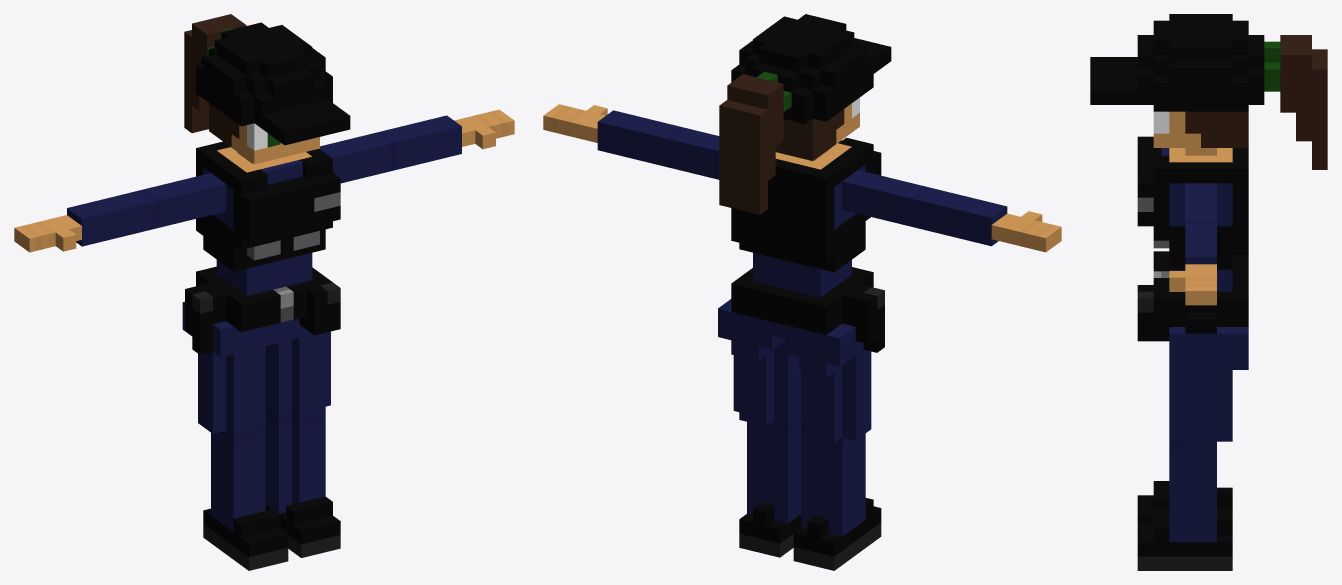
File: Character-5.obj
3 renders of one model, left to right at view 1: azimuth 30°, elevation 25°; view 2: azimuth 150°, elevation 25°; view 3: azimuth 270°, elevation 25°, orthographic. The views are drawn at different scales.
Visible parts, largest first — view 1: Character-5; view 2: Character-5; view 3: Character-5.
Boxes of the visible parts, <box> form: Character-5: <box>14,14,514,570</box>; Character-5: <box>543,14,1061,570</box>; Character-5: <box>1090,14,1327,570</box>.
Bounding box in the file's own units: 7.4 × 7.2 × 3.
1 material, 1 textured.
